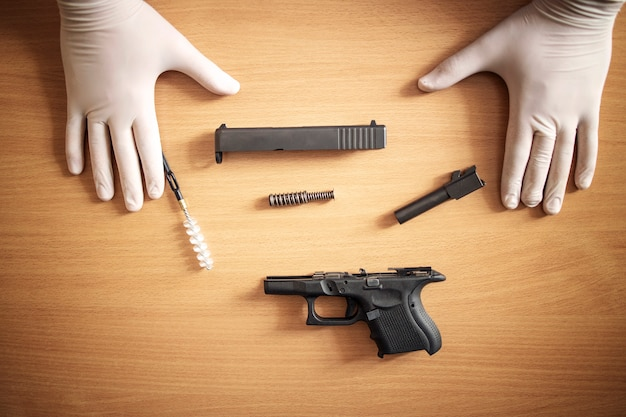gun: (261, 265, 445, 358)
